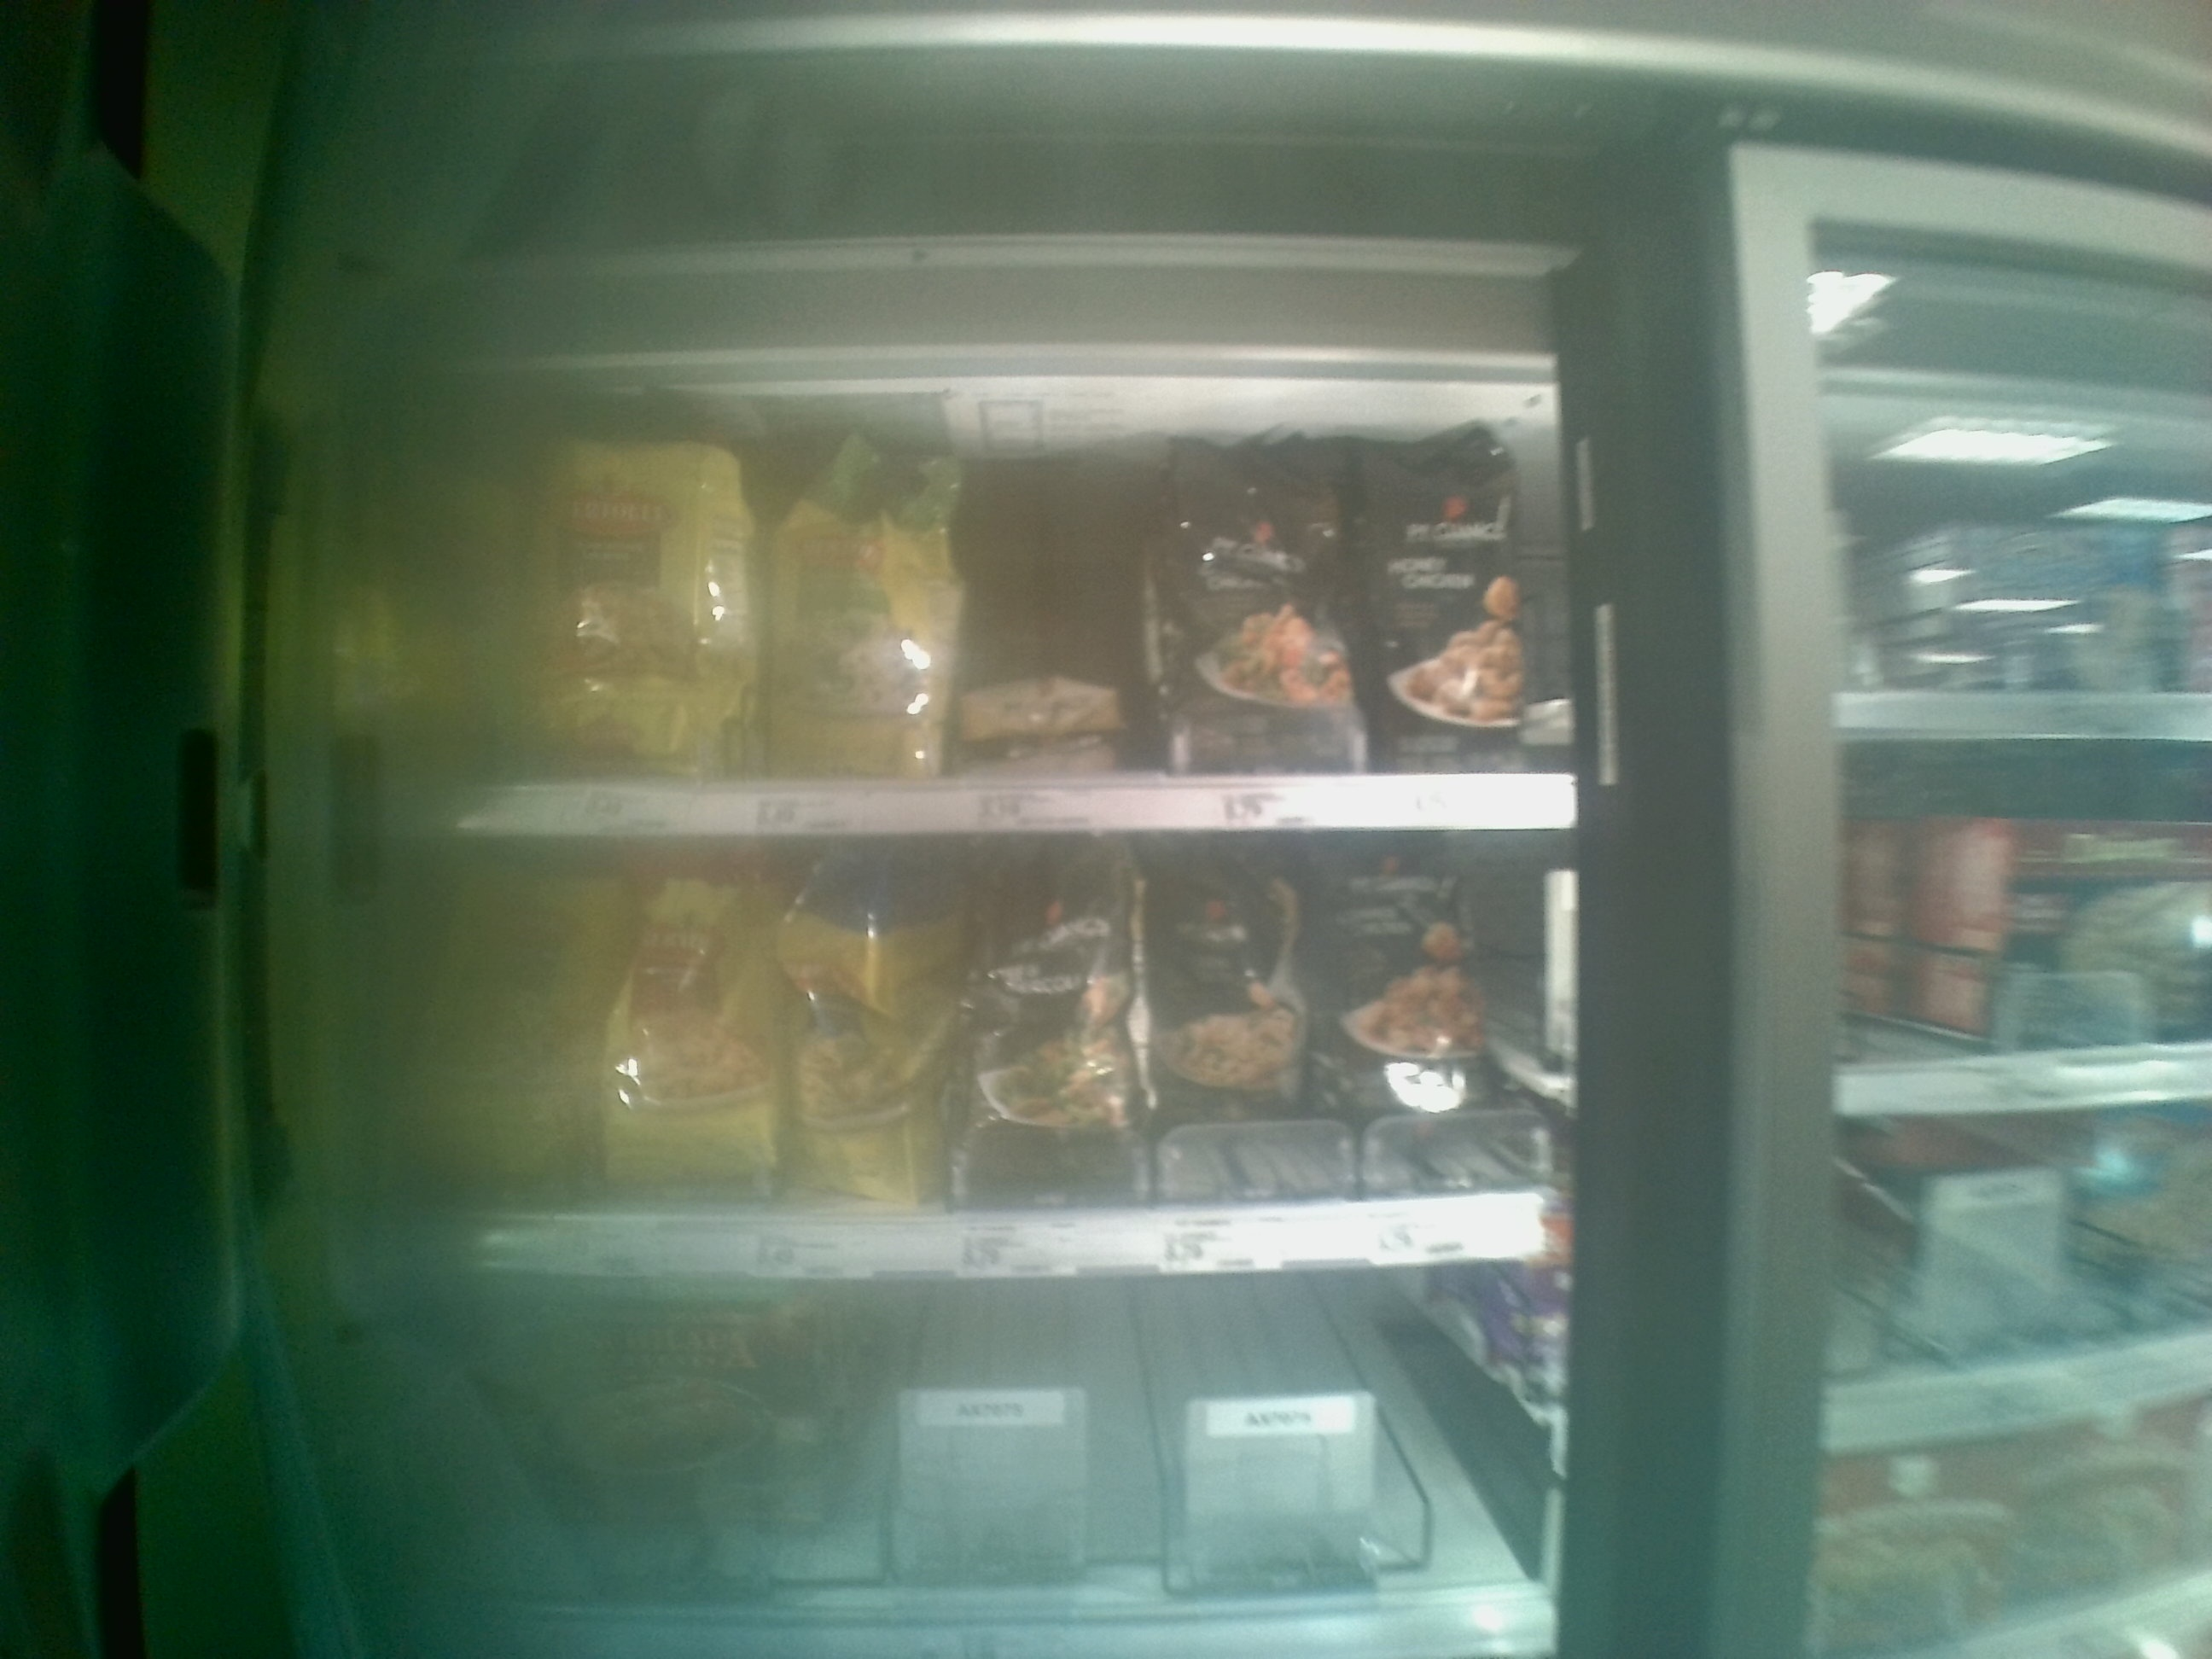shelf: (434, 390, 1564, 824), (441, 829, 1543, 1269), (467, 1267, 1543, 1659)
